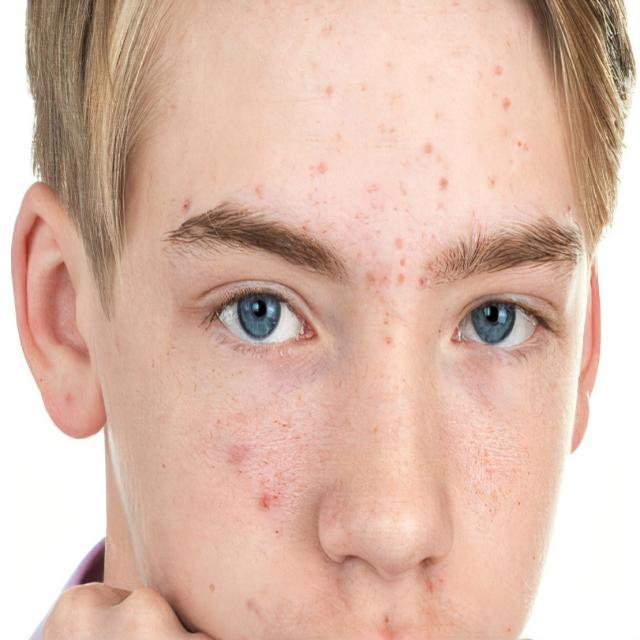Acne: (179, 1, 566, 245), (185, 377, 339, 555), (357, 201, 434, 353)
